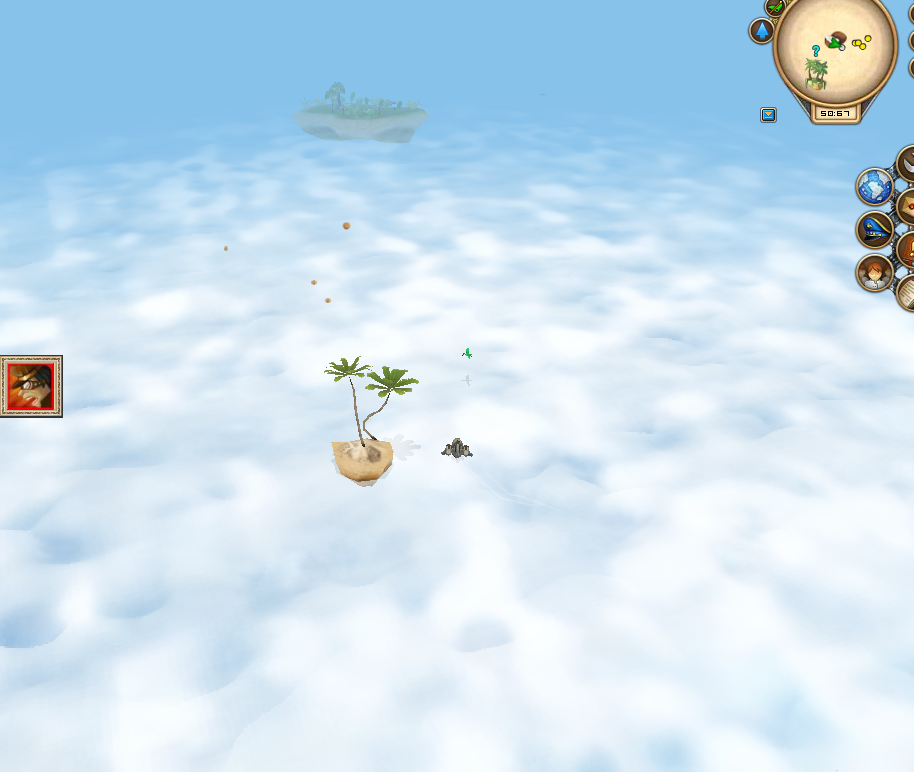coconut: (339, 219, 355, 233), (322, 293, 333, 305), (219, 244, 231, 253), (308, 278, 318, 286)
palm: (315, 357, 423, 487)
